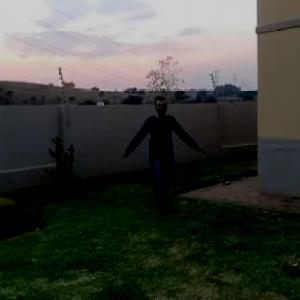land: (117, 92, 204, 215)
